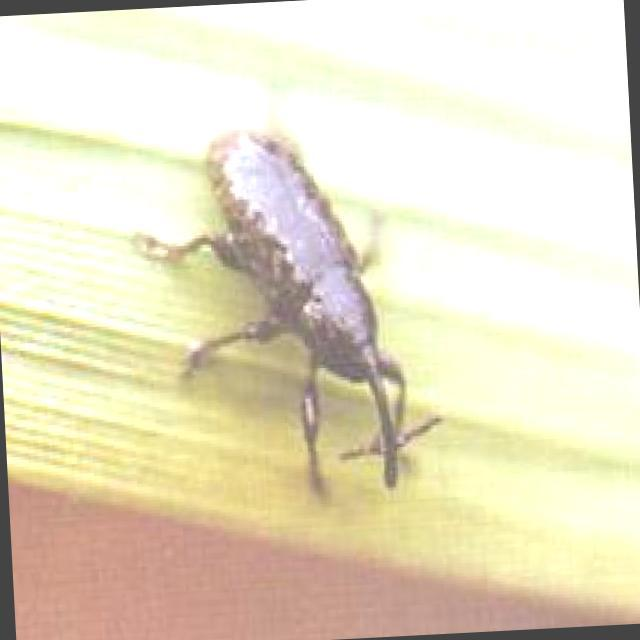ricebug: (135, 130, 439, 491)
